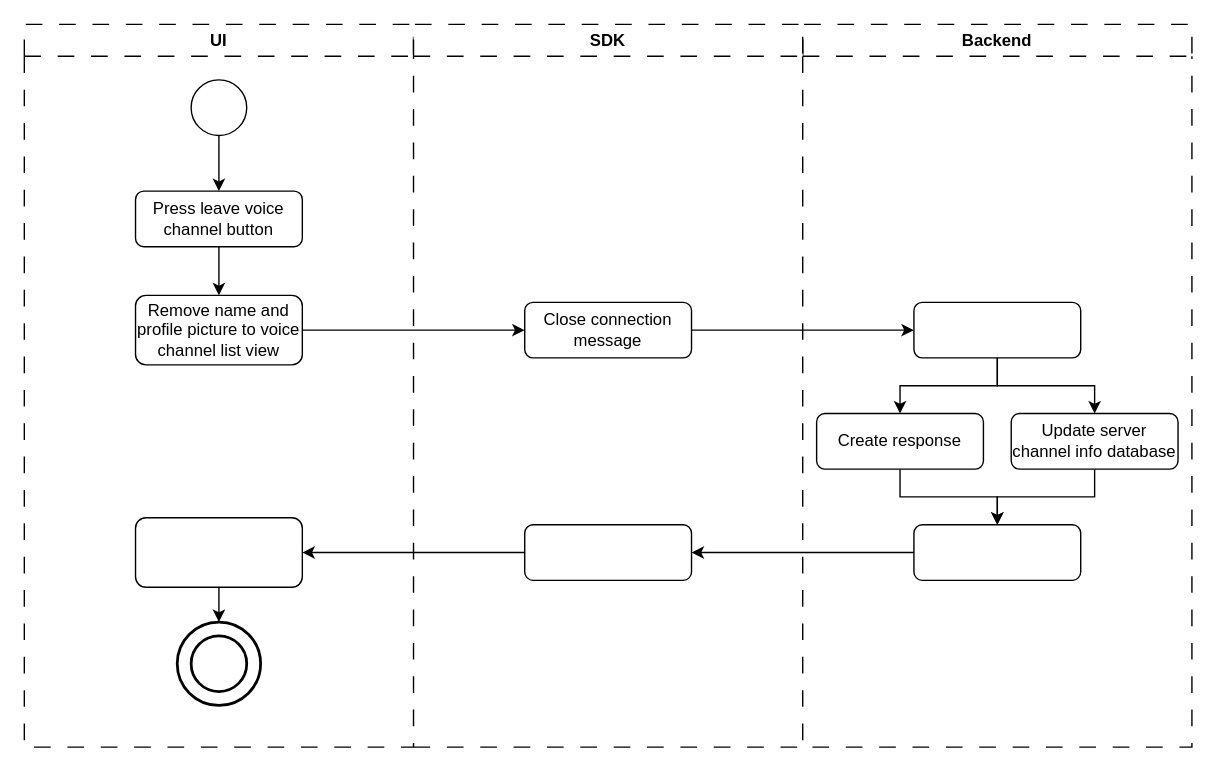
This 1216x773 diagram has some shape labels left out. The centre of each missing label's shape, as x and y in pixels:
"Decode response" goes at [607,551].
"Receive request" goes at [997,329].
"Remove voice channel specific UI elements" goes at [218,551].
"Send response" goes at [997,551].
